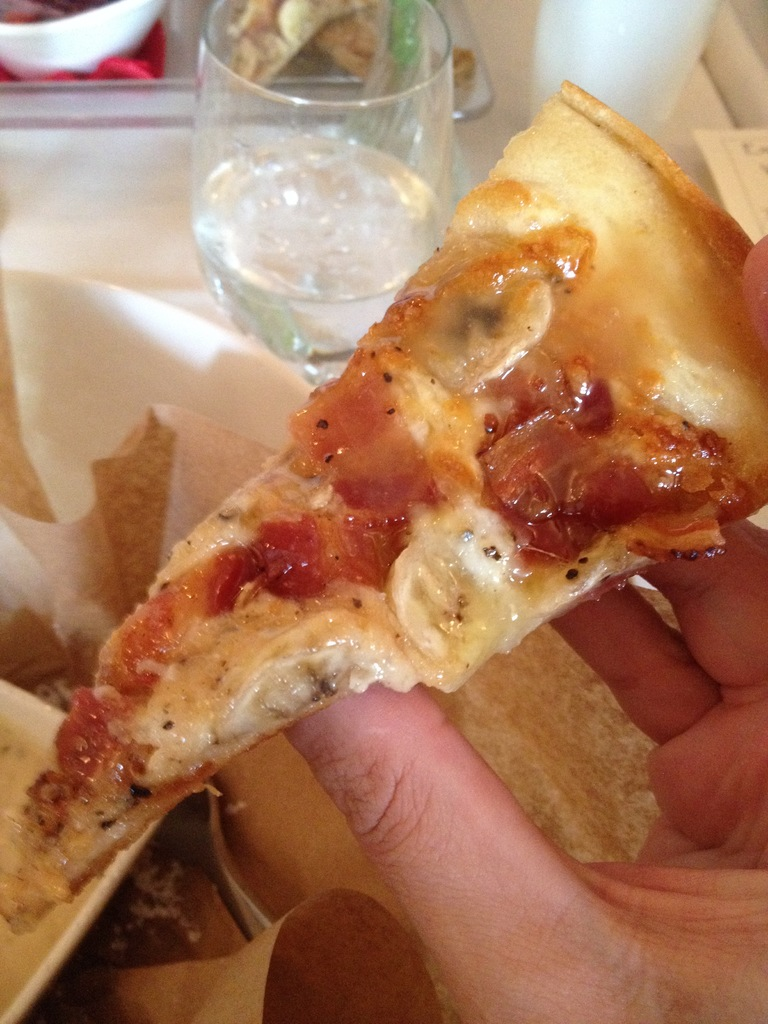Pizza: (0, 71, 767, 938)
